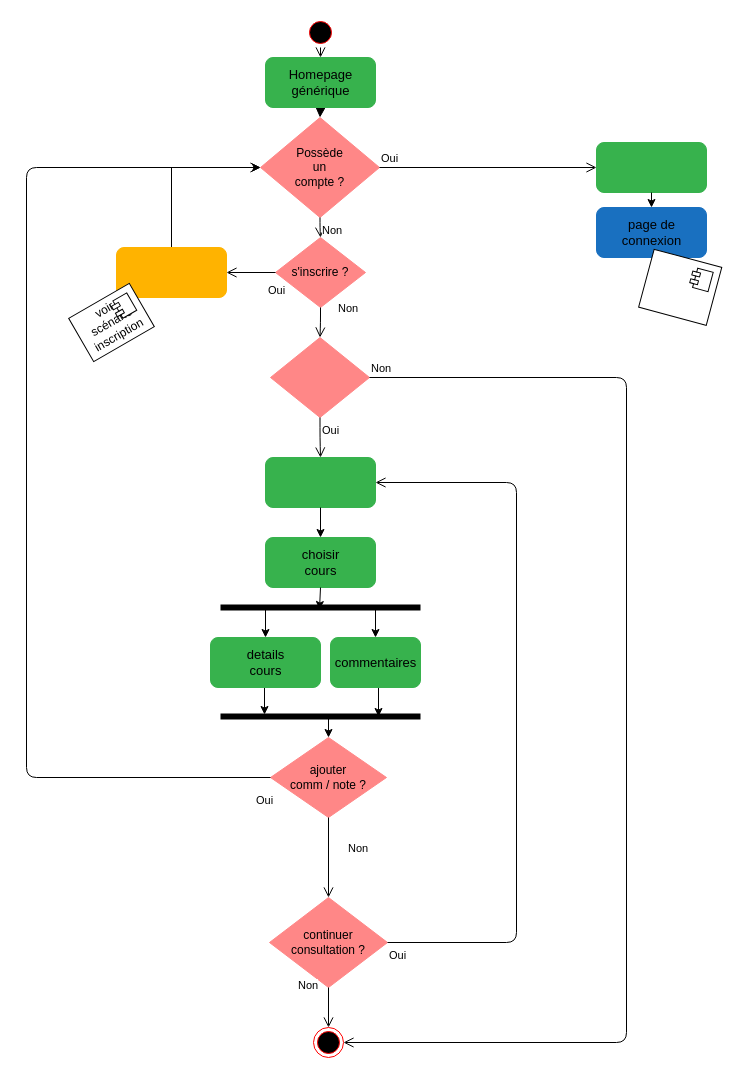
Image size: 740x1075. Some labels were removed from this diagram. Here are the shapes that lost their labels. From the top down, the centre of each, then its label:
At (x=651, y=167): "se connecter".
At (x=171, y=272): "page formulaire inscription".
At (x=680, y=287): "voir scénario user lambda".
At (x=320, y=377): "consulter un cours ?".
At (x=320, y=482): "consulter liste cours".
